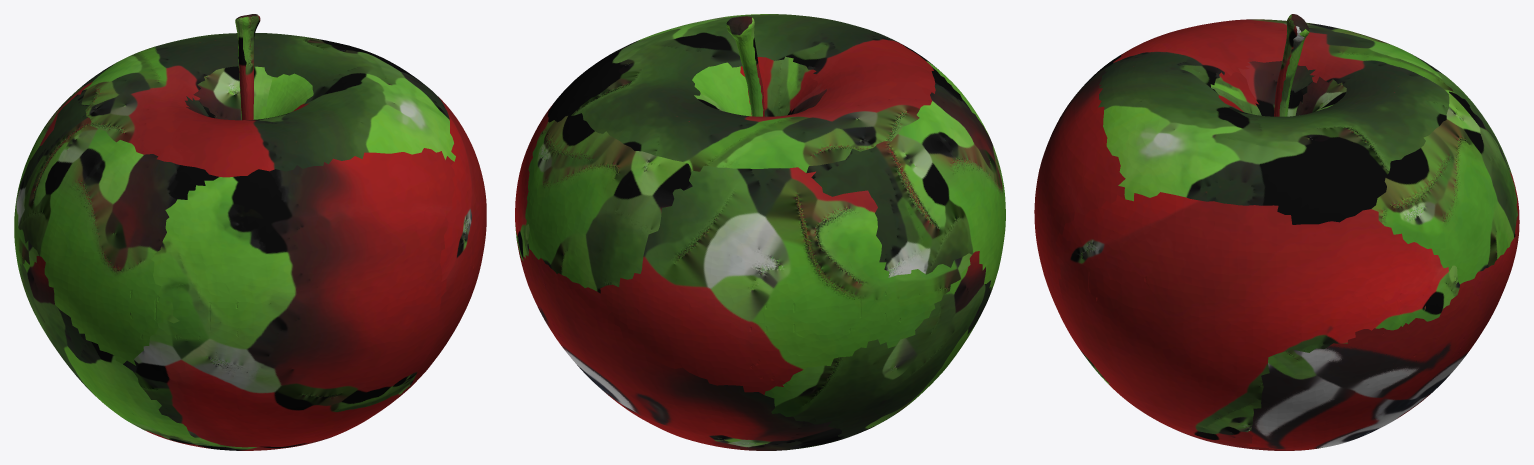
Rendered from sample.obj.
3 renders of one model, left to right at view 1: azimuth 30°, elevation 25°; view 2: azimuth 150°, elevation 25°; view 3: azimuth 270°, elevation 25°, orthographic. The views are drawn at different scales.
Size of the model in its own units: 0.1017 by 0.09 by 0.0995.
